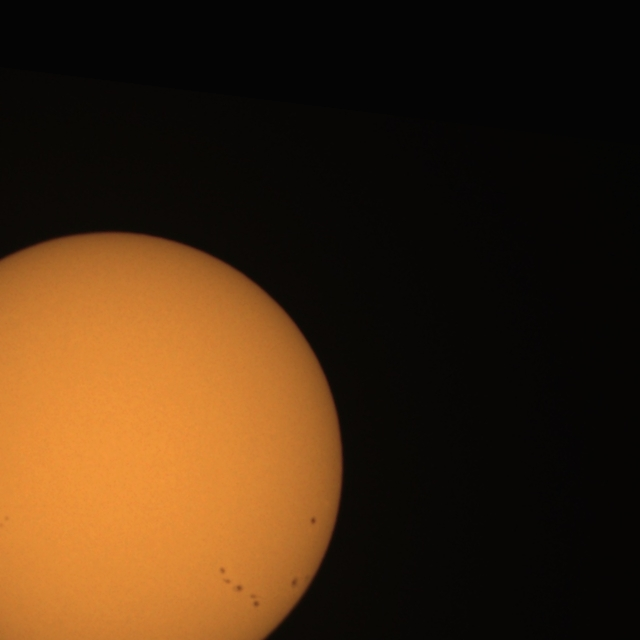sunspot: (226, 582, 261, 608), (219, 566, 244, 593), (290, 573, 311, 590), (249, 592, 261, 608), (0, 514, 10, 532), (290, 576, 300, 590), (309, 516, 317, 526)
